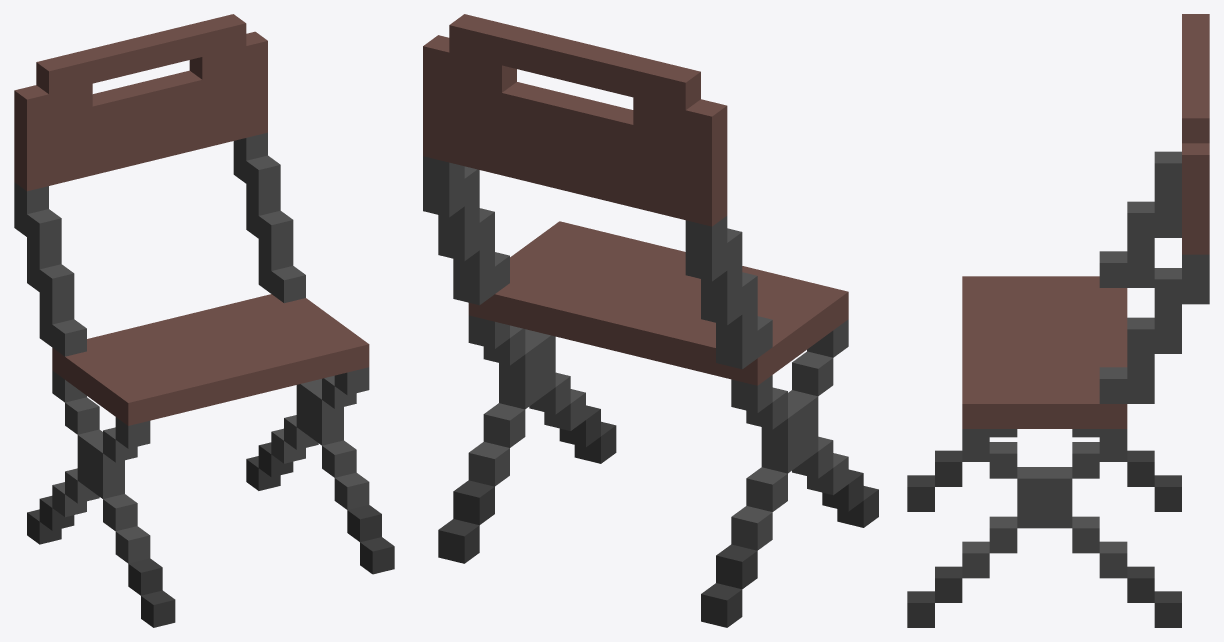
The model's file is Bunker - Free Sample-30-Chair_Red-2.obj.
3 renders of one model, left to right at view 1: azimuth 30°, elevation 25°; view 2: azimuth 150°, elevation 25°; view 3: azimuth 270°, elevation 25°, orthographic. The views are drawn at different scales.
Parts seen in each view (by area): view 1: Chair_Red-2; view 2: Chair_Red-2; view 3: Chair_Red-2.
Part boxes in pixels (x1=…): Chair_Red-2: x1=14, y1=14, x2=394, y2=627; Chair_Red-2: x1=423, y1=14, x2=878, y2=627; Chair_Red-2: x1=907, y1=14, x2=1209, y2=627.
Bounding box in the file's own units: 0.22 × 0.4 × 0.22.
1 material, 1 textured.
